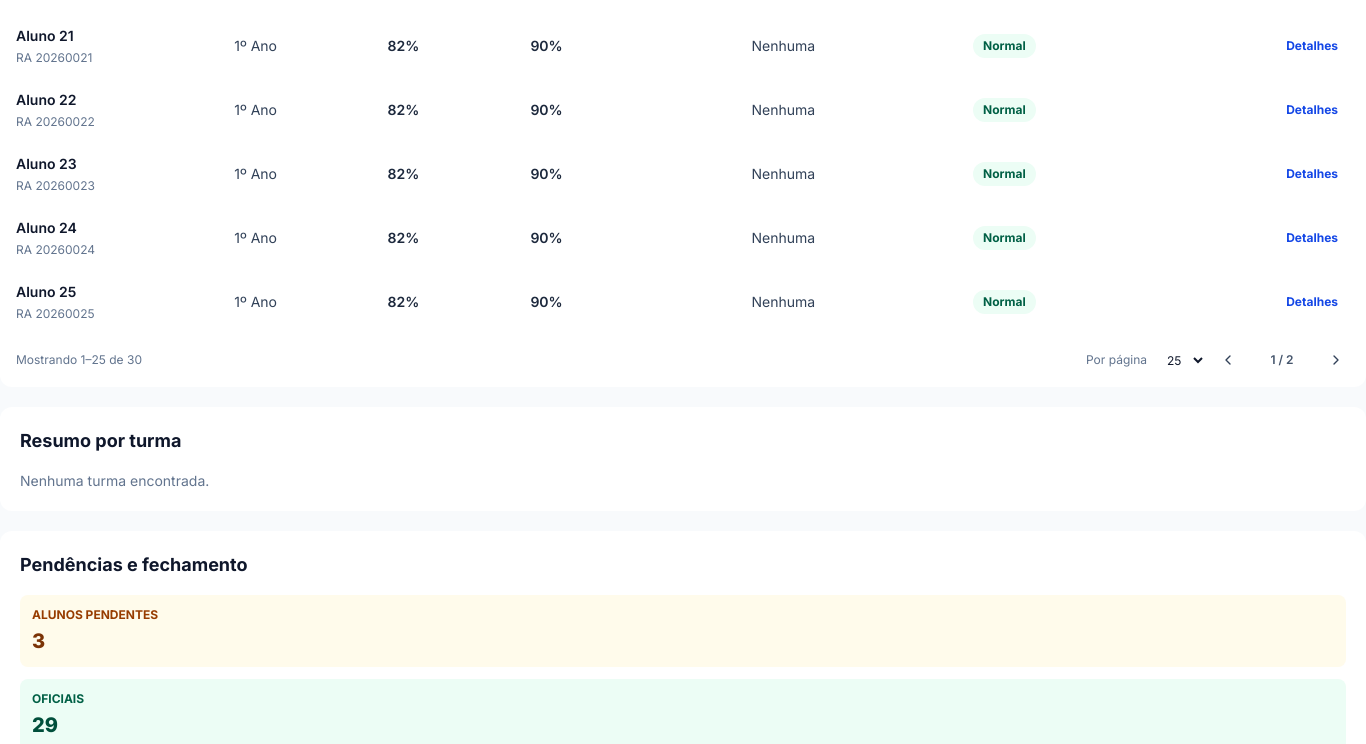
Test case: PedagogicalMonitoringPanel › permite trocar o tamanho da página e retorna à primeira página
(page scrolled)
Select "10" in the dropdown named "Alunos por página" at (1180, 360), box top-left (1155, 346), bottom-right (1206, 375)
(page scrolled)
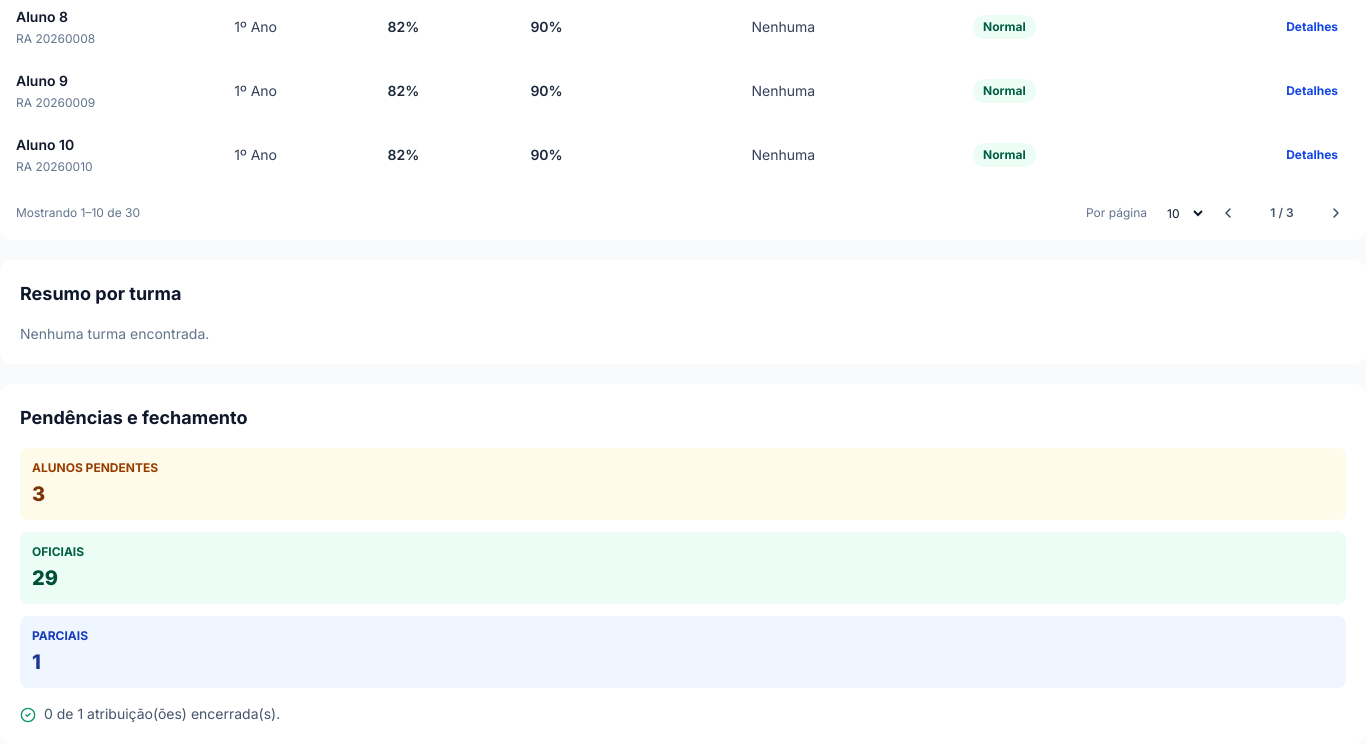
Expected: the text "Mostrando 1–10 de 30" is shown, top-left (16, 205), bottom-right (140, 221)
Click the button named "Próxima página" at (1336, 213), box top-left (1322, 199), bottom-right (1350, 227)
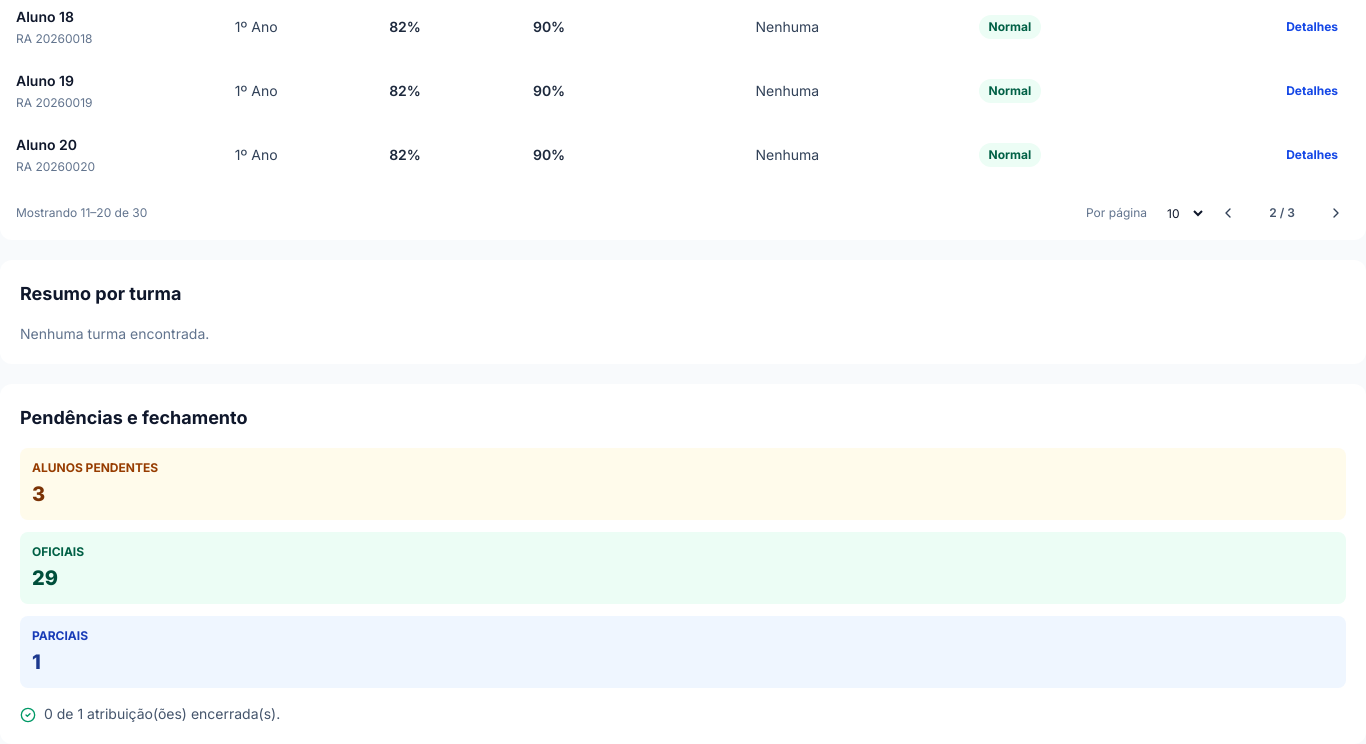
Expected: the text "Mostrando 11–20 de 30" is shown, top-left (16, 205), bottom-right (147, 221)
Select "50" in the dropdown named "Alunos por página" at (1180, 213), box top-left (1155, 199), bottom-right (1206, 228)
(page scrolled)
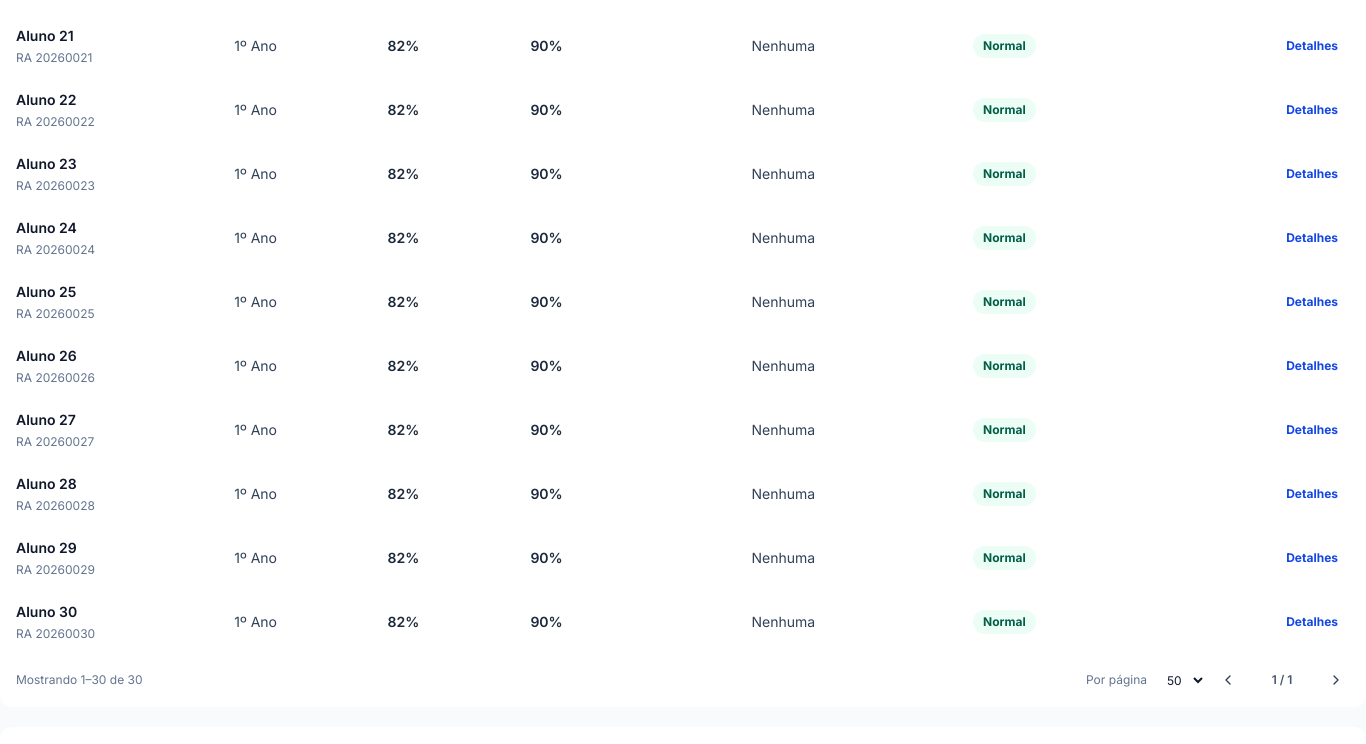
Expected: the text "Mostrando 1–30 de 30" is shown, top-left (16, 672), bottom-right (142, 688)
